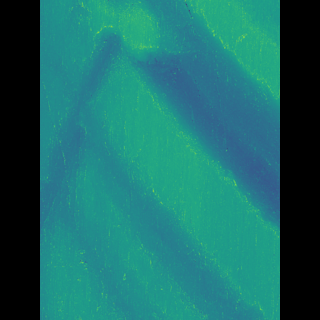Loch: (102, 0, 250, 243), (126, 177, 240, 319)
